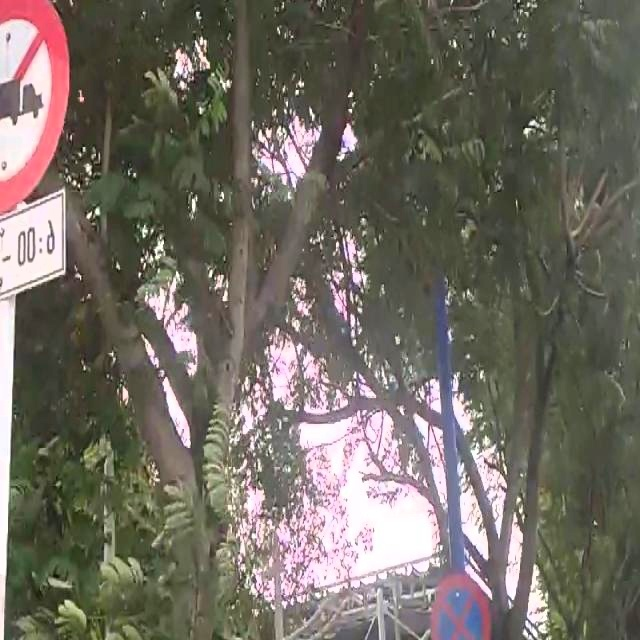B.8a: (0, 8, 68, 282)
P.130: (427, 572, 491, 640)
